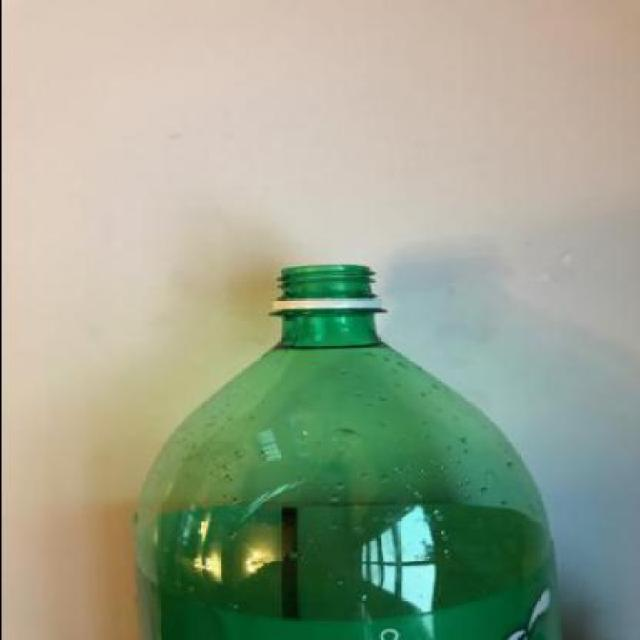PLASTIC: (138, 263, 560, 639)
